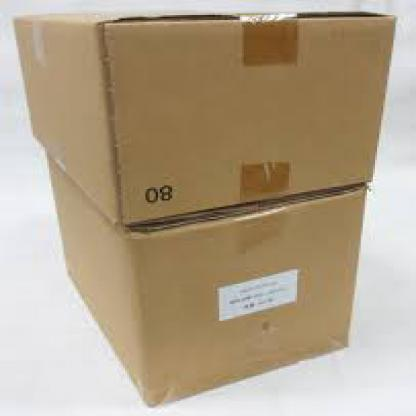paquete: (25, 139, 414, 413), (10, 7, 406, 229)
